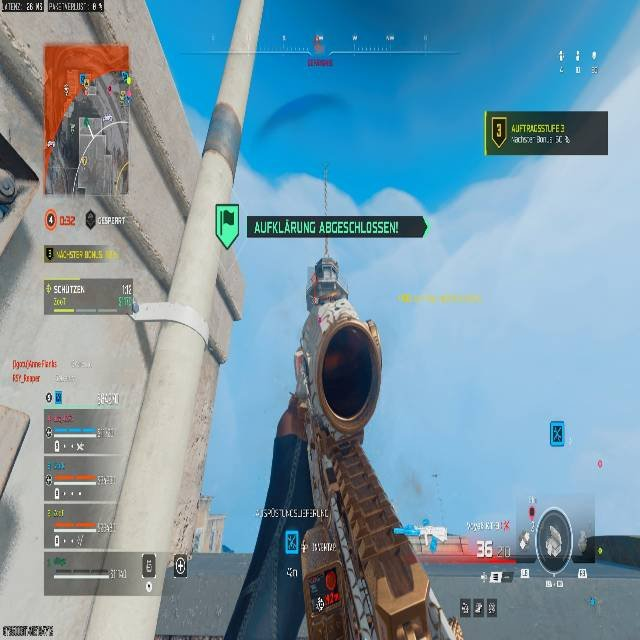head: (306, 255, 347, 306)
